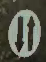Two way: (7, 3, 44, 60)
